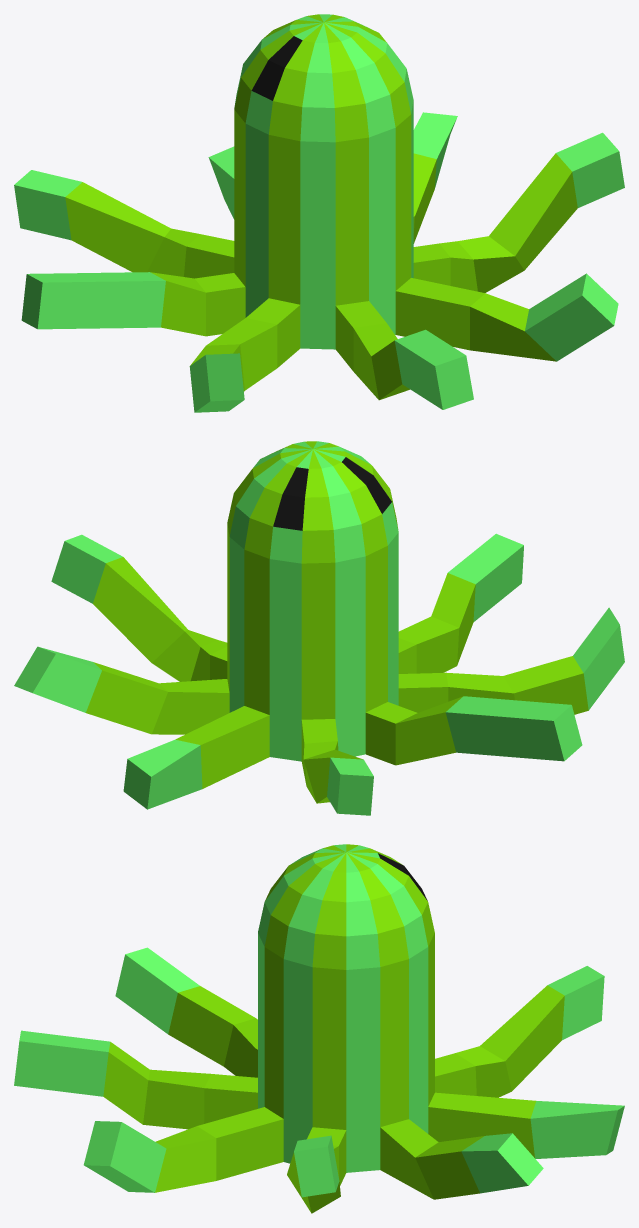
Rendered from pablo.fbx.
3 views of the same model, one above another, from view 1: azimuth 30°, elevation 25°; view 2: azimuth 150°, elevation 25°; view 3: azimuth 270°, elevation 25° (orthographic). The views are drawn at different scales.
Parts seen in each view (by area): view 1: Sphere; view 2: Sphere; view 3: Sphere.
Part boxes in pixels (left/top/right/bottom): Sphere: left=14, top=14, right=624, bottom=412; Sphere: left=14, top=441, right=624, bottom=815; Sphere: left=14, top=844, right=624, bottom=1213.
Bounding box in the file's own units: 719 × 357 × 690.
